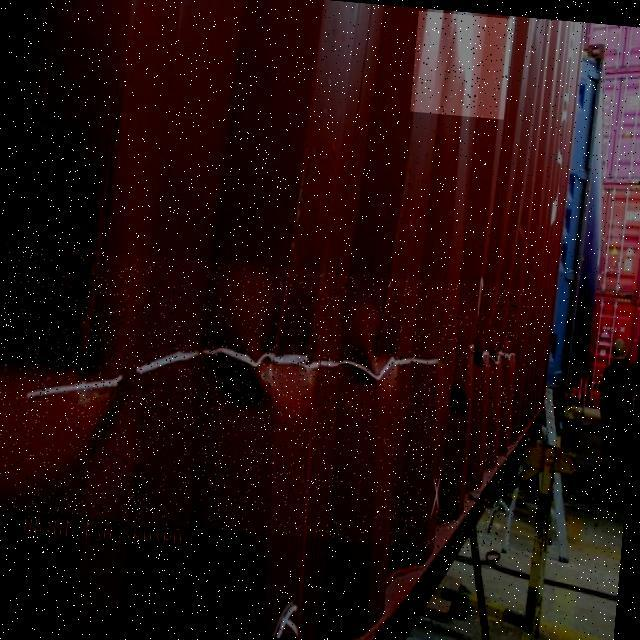Dent: (0, 243, 530, 554)
Minor-Dent: (410, 11, 512, 120)
